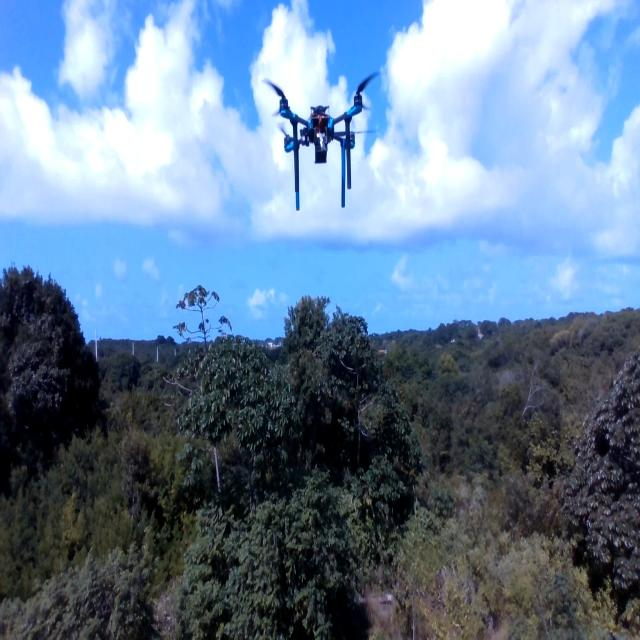-uav-: (245, 49, 406, 225)
